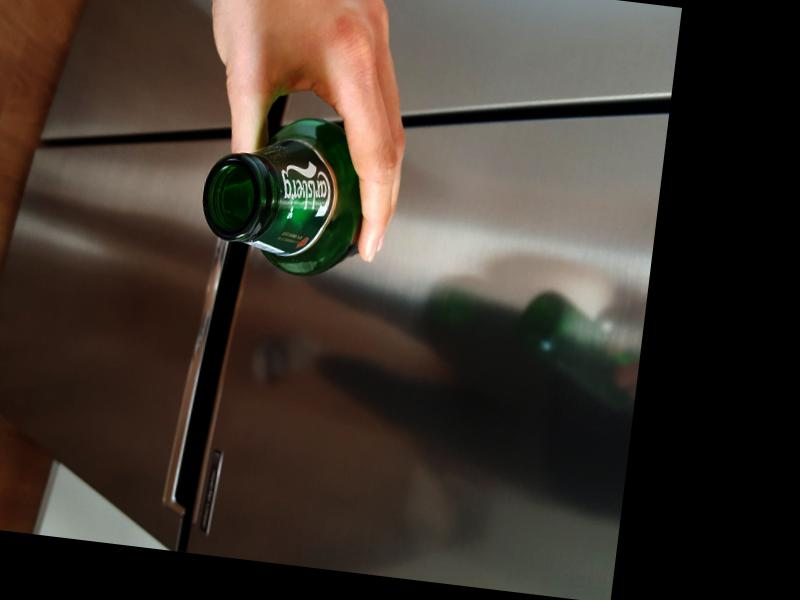Beer: (194, 110, 373, 281)
